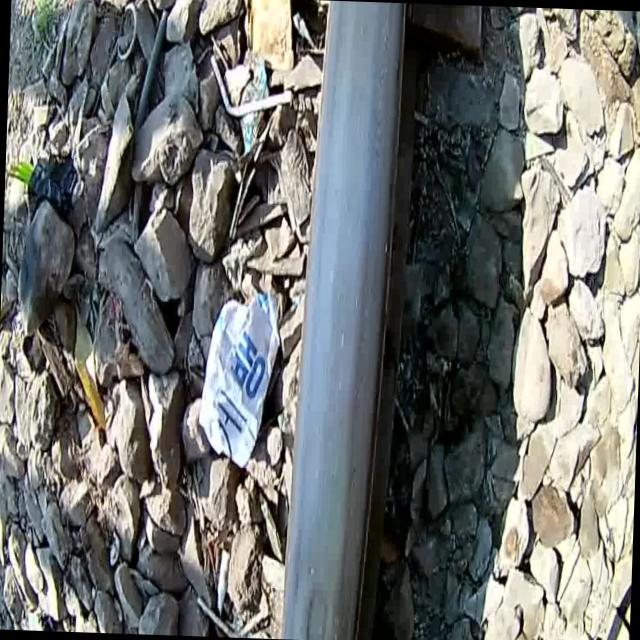Squats: (267, 567, 376, 640)
